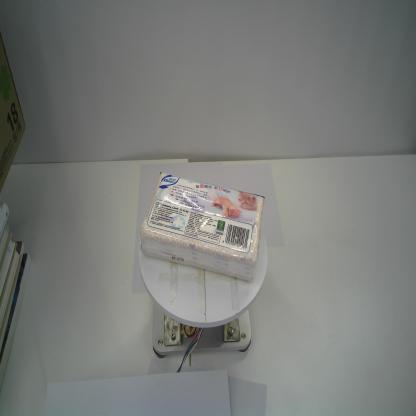Tissue: (140, 168, 266, 286)
